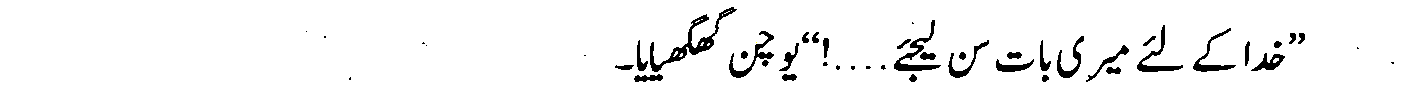bay_shosha: (1038, 58, 1052, 83)
